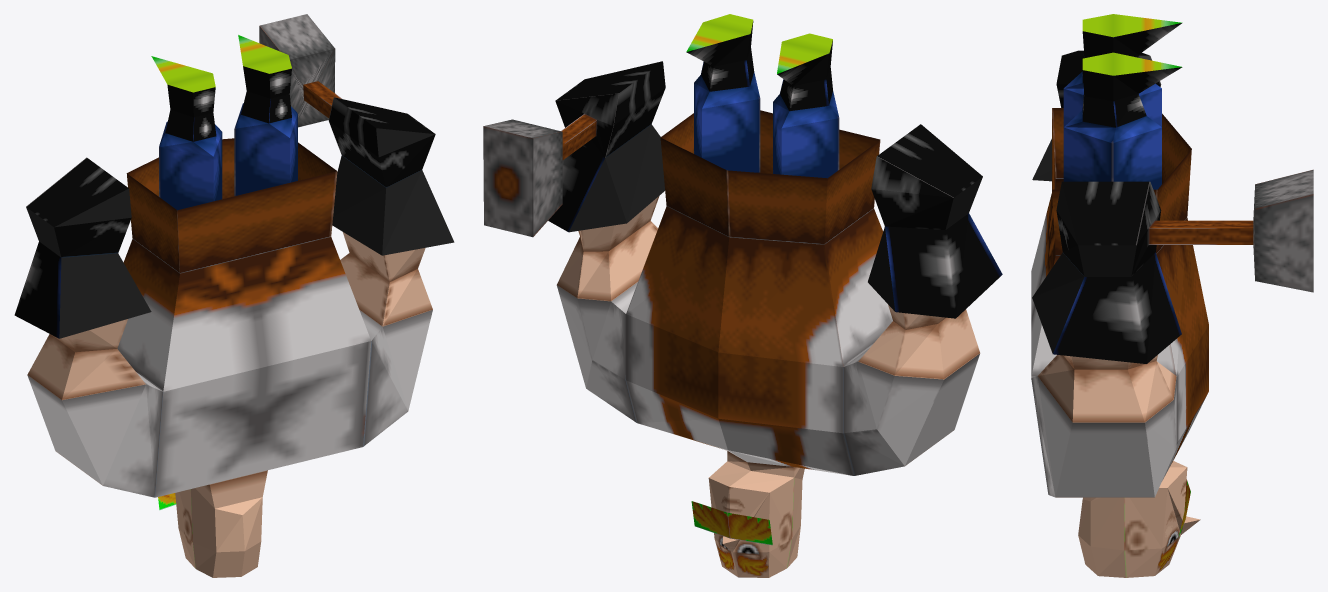
File: SMITH.obj
3 renders of one model, left to right at view 1: azimuth 30°, elevation 25°; view 2: azimuth 150°, elevation 25°; view 3: azimuth 270°, elevation 25°, orthographic. The views are drawn at different scales.
Visible parts, largest first — view 1: SMITH_node17_face01, SMITH_node00_face00, SMITH_node04_face01, SMITH_node07_face01, SMITH_node08_face00, SMITH_node17_face05, SMITH_node05_face00, SMITH_node17_face04, SMITH_node17_face07, SMITH_node17_face03, SMITH_node17_face02, SMITH_node17_face06 (+14 smaller); view 2: SMITH_node17_face01, SMITH_node00_face00, SMITH_node04_face01, SMITH_node08_face00, SMITH_node07_face01, SMITH_node05_face01, SMITH_node17_face05, SMITH_node17_face07, SMITH_node17_face03, SMITH_node17_face04, SMITH_node17_face02, SMITH_node17_face06 (+18 smaller); view 3: SMITH_node04_face01, SMITH_node02_face01, SMITH_node17_face07, SMITH_node17_face01, SMITH_node17_face03, SMITH_node01_face09, SMITH_node08_face00, SMITH_node03_face02, SMITH_node00_face00, SMITH_node01_face07, SMITH_node02_face00, SMITH_node07_face01 (+14 smaller).
Boxes of the visible parts, <box> form: SMITH_node17_face01: <box>117,237,370,391</box>; SMITH_node00_face00: <box>155,341,371,497</box>; SMITH_node04_face01: <box>259,14,454,282</box>; SMITH_node07_face01: <box>14,157,151,352</box>; SMITH_node08_face00: <box>126,138,337,273</box>; SMITH_node17_face05: <box>27,334,145,400</box>; SMITH_node05_face00: <box>62,384,145,485</box>; SMITH_node17_face04: <box>103,372,163,497</box>; SMITH_node17_face07: <box>340,253,432,326</box>; SMITH_node17_face03: <box>234,114,297,196</box>; SMITH_node17_face02: <box>159,133,222,210</box>; SMITH_node17_face06: <box>359,310,408,446</box>; SMITH_node17_face01: <box>626,206,892,366</box>; SMITH_node00_face00: <box>626,314,853,475</box>; SMITH_node04_face01: <box>483,61,665,251</box>; SMITH_node08_face00: <box>660,110,880,244</box>; SMITH_node07_face01: <box>871,124,1002,329</box>; SMITH_node05_face01: <box>877,353,979,465</box>; SMITH_node17_face05: <box>858,309,979,379</box>; SMITH_node17_face07: <box>557,221,657,301</box>; SMITH_node17_face03: <box>694,83,760,172</box>; SMITH_node17_face04: <box>843,348,904,475</box>; SMITH_node17_face02: <box>773,103,839,178</box>; SMITH_node17_face06: <box>586,282,637,422</box>; SMITH_node04_face01: <box>1032,169,1313,369</box>; SMITH_node02_face01: <box>1055,400,1176,497</box>; SMITH_node17_face07: <box>1037,355,1176,422</box>; SMITH_node17_face01: <box>1031,179,1208,377</box>; SMITH_node17_face03: <box>1063,127,1161,189</box>; SMITH_node01_face09: <box>1090,461,1186,550</box>; SMITH_node08_face00: <box>1052,108,1191,255</box>; SMITH_node03_face02: <box>1064,70,1161,143</box>; SMITH_node00_face00: <box>1162,325,1208,480</box>; SMITH_node01_face07: <box>1078,535,1161,577</box>; SMITH_node02_face00: <box>1037,376,1176,496</box>; SMITH_node07_face01: <box>1032,50,1161,181</box>.
Size of the model in its own units: 528 by 647 by 313.
